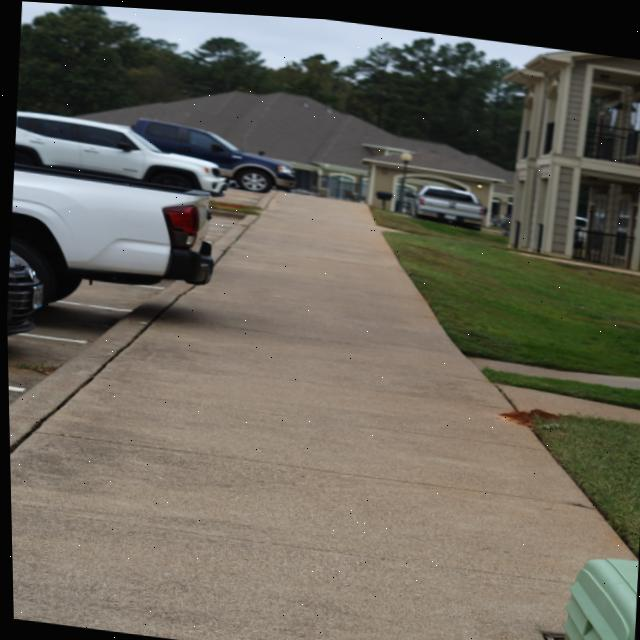Automobile: (8, 163, 211, 302), (13, 110, 225, 193), (131, 117, 295, 188), (411, 178, 484, 222), (5, 250, 42, 335)
Obstacle: (544, 551, 636, 640)
Road: (6, 279, 164, 405), (212, 184, 267, 203), (204, 212, 238, 241)
Sidewalk: (8, 190, 632, 640), (465, 350, 640, 382), (495, 378, 640, 416)
